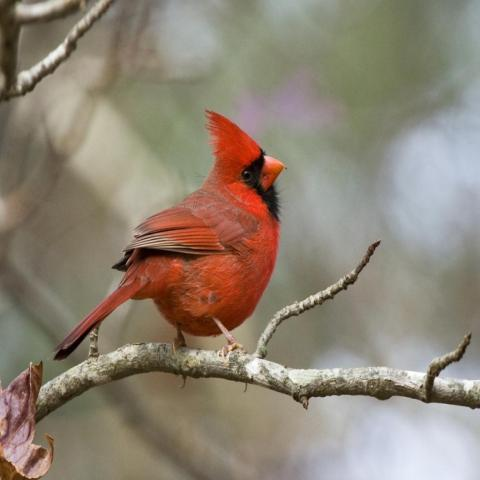bird: (51, 106, 288, 374)
